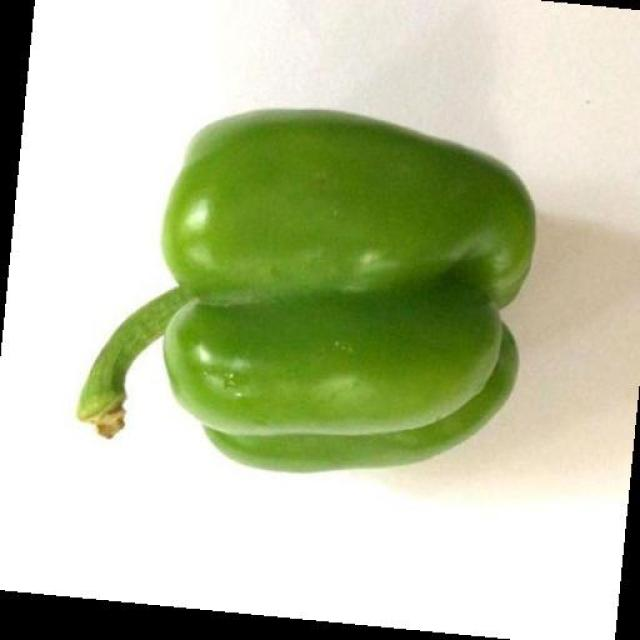Fresh_Capsicum: (135, 123, 510, 520)
